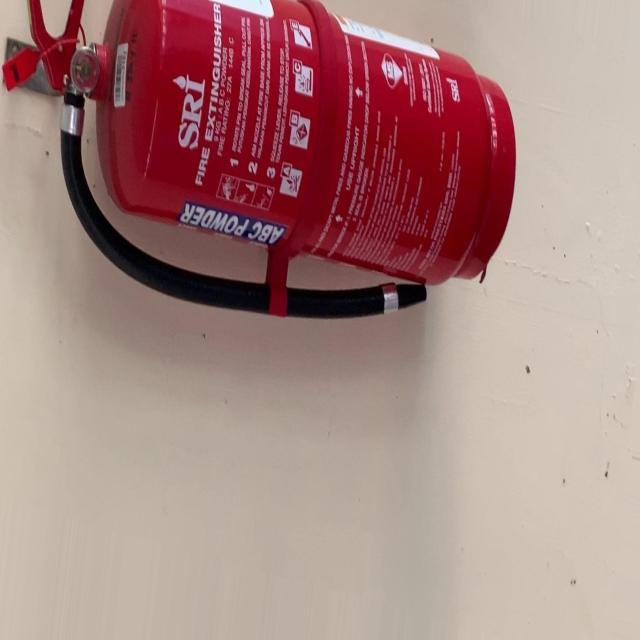fire_extinguisher: (1, 0, 518, 321)
